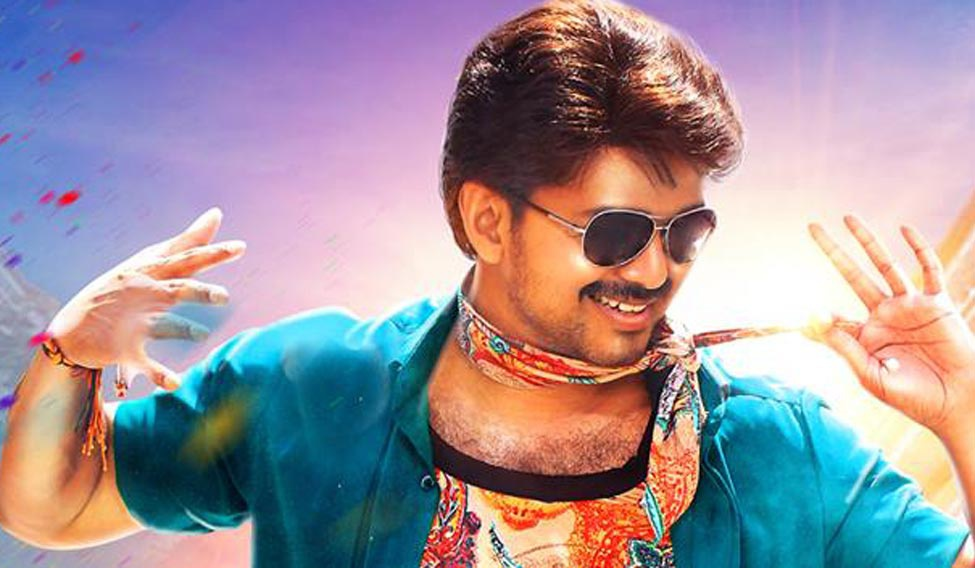bad: (513, 142, 736, 365)
